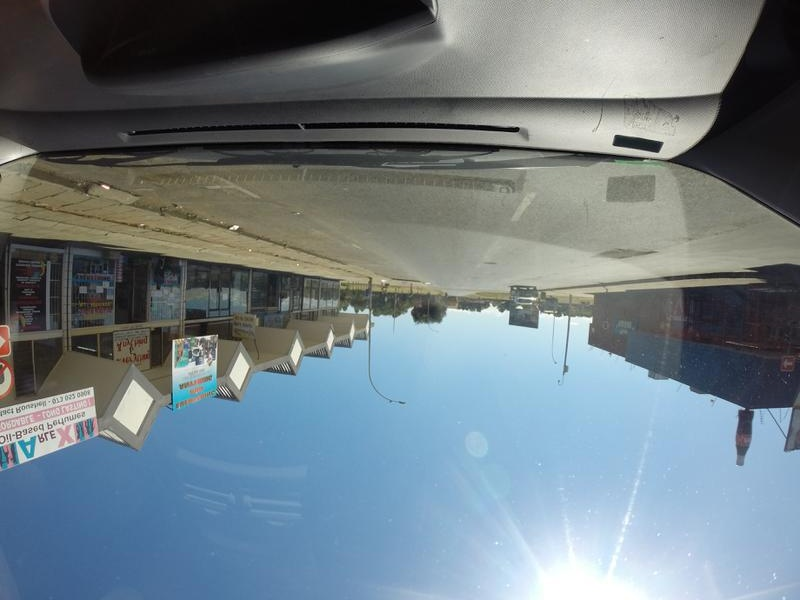pothole: (596, 250, 656, 264), (484, 258, 499, 265)
